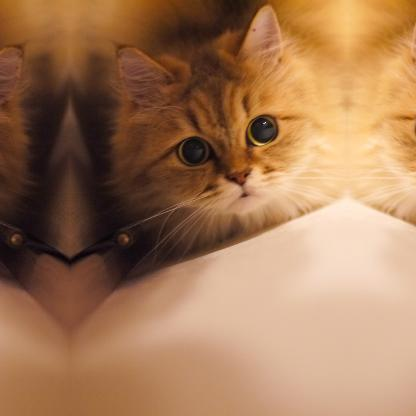Cat: (69, 0, 346, 274), (0, 0, 70, 275), (346, 0, 415, 275)
